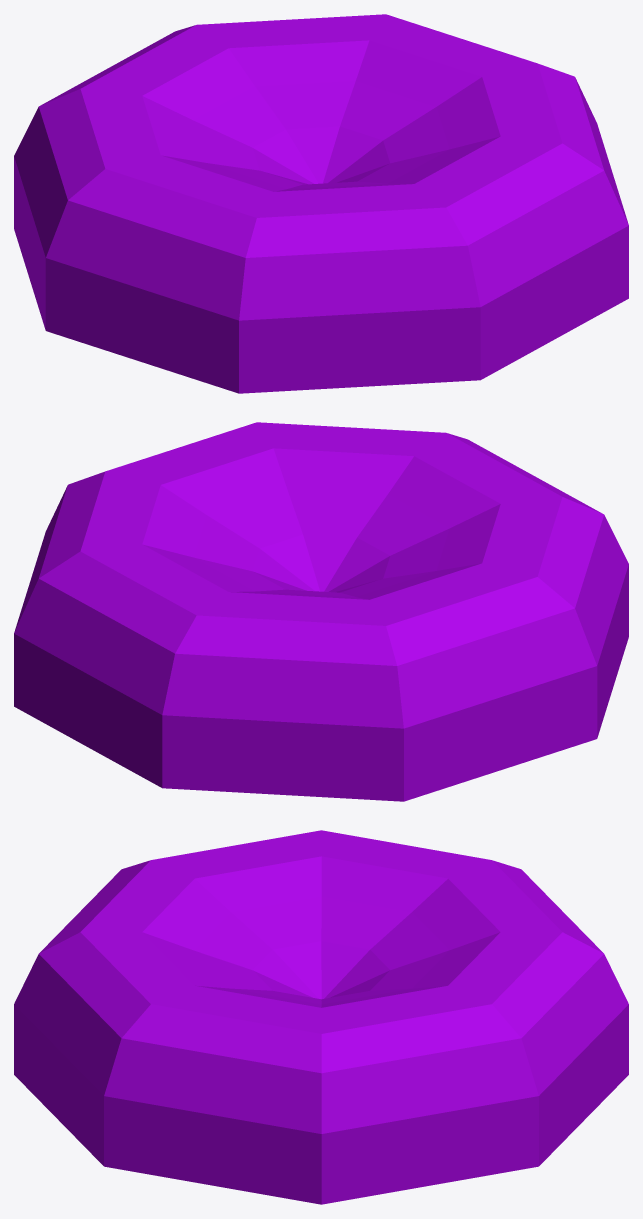
Rendered from sm_plantShort_low.fbx.
3 views of the same model, one above another, from view 1: azimuth 30°, elevation 25°; view 2: azimuth 150°, elevation 25°; view 3: azimuth 270°, elevation 25° (orthographic). The views are drawn at different scales.
Visible parts, largest first — view 1: polySurface226; view 2: polySurface226; view 3: polySurface226.
Part boxes in pixels (box(x1,y1,x2,y2)): polySurface226: box(14, 14, 628, 393); polySurface226: box(14, 422, 628, 801); polySurface226: box(14, 830, 628, 1204).
Bounding box in the file's own units: 367 × 93.82 × 367.
